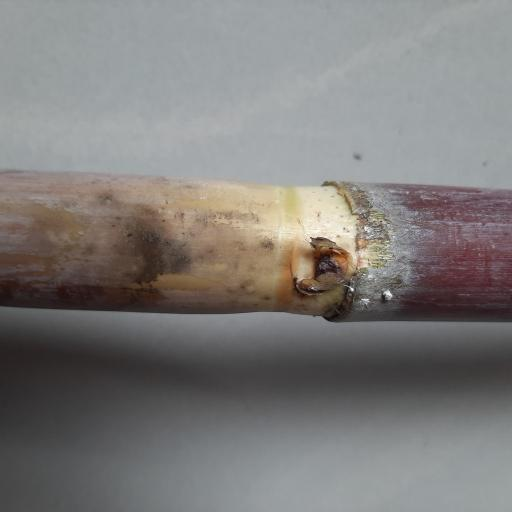Damage_Bud: (290, 238, 352, 294)
